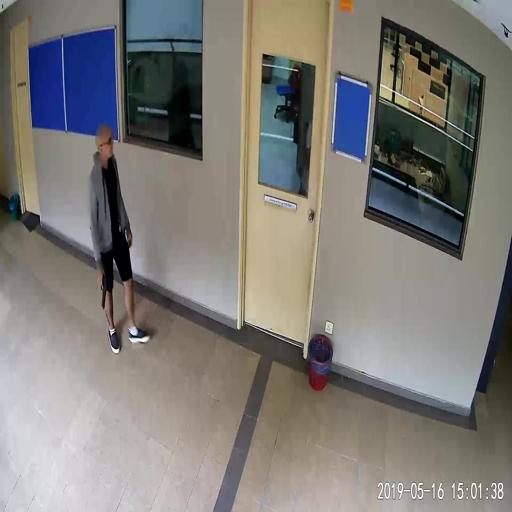pistol: (99, 273, 107, 309)
